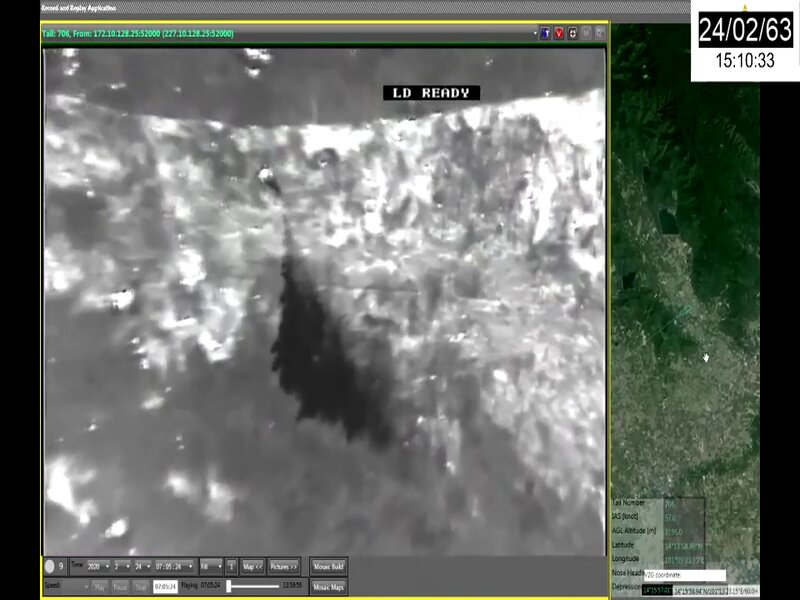Fire: (303, 86, 604, 271)
